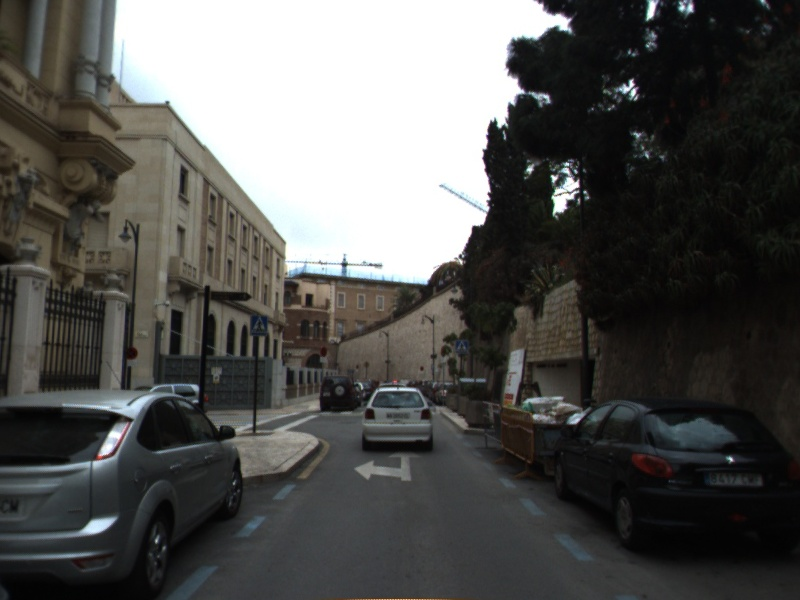STRAIGHT_LEFT: (353, 447, 423, 482)
